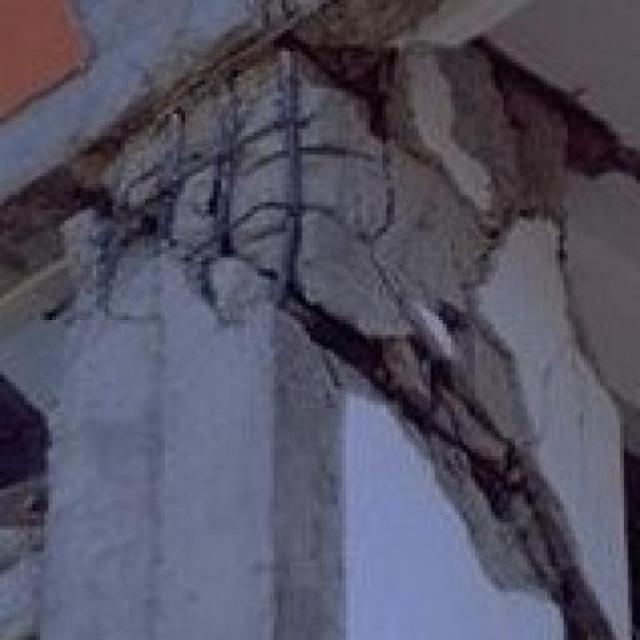D0w0: (105, 1, 635, 639)
